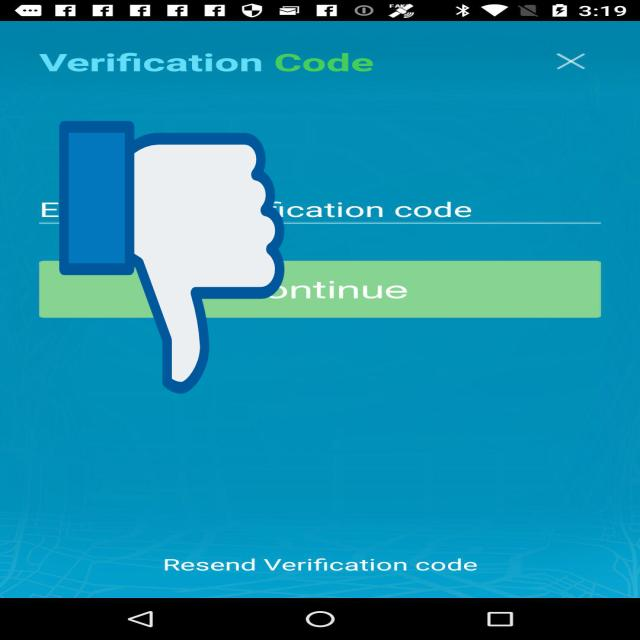obstruction: (59, 115, 284, 400)
